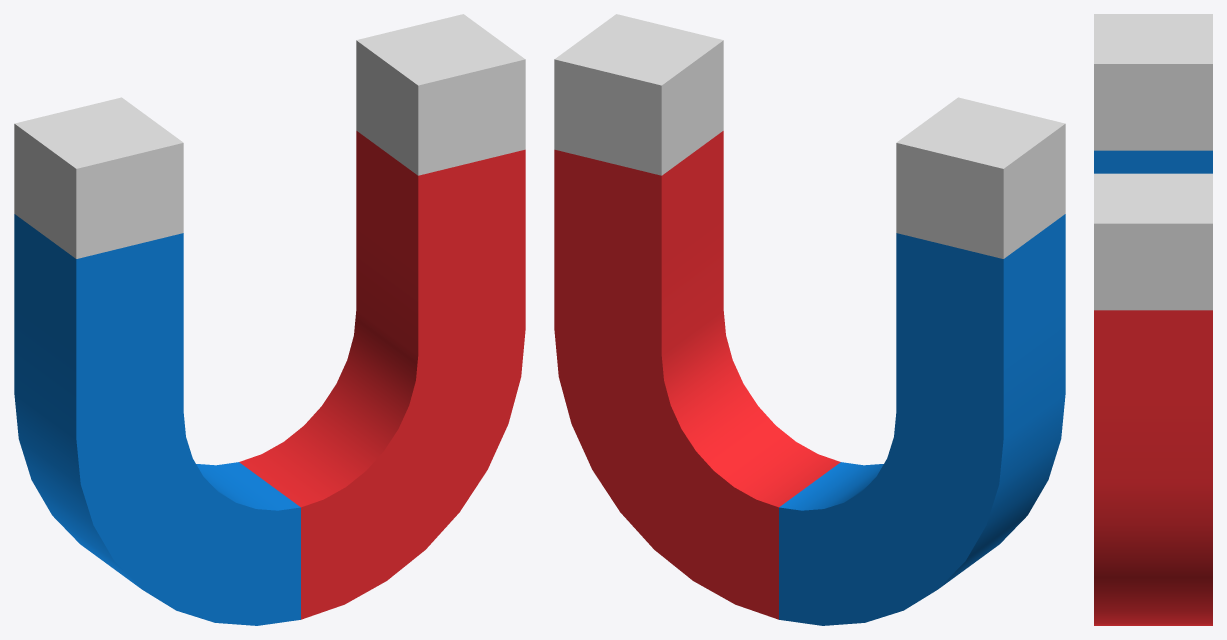
Rendered from Magnet.fbx.
The picture shows the model from 3 angles, left to right: view 1: azimuth 30°, elevation 25°; view 2: azimuth 150°, elevation 25°; view 3: azimuth 270°, elevation 25°; orthographic projection. The views are drawn at different scales.
Visible parts, largest first — view 1: Magnet; view 2: Magnet; view 3: Magnet.
Boxes of the visible parts, bbox=[...] form: Magnet: bbox=[14, 14, 525, 625]; Magnet: bbox=[554, 14, 1065, 625]; Magnet: bbox=[1094, 14, 1212, 625].
Bounding box in the file's own units: 95.28 × 102 × 22.78.
1 material, 1 textured.
